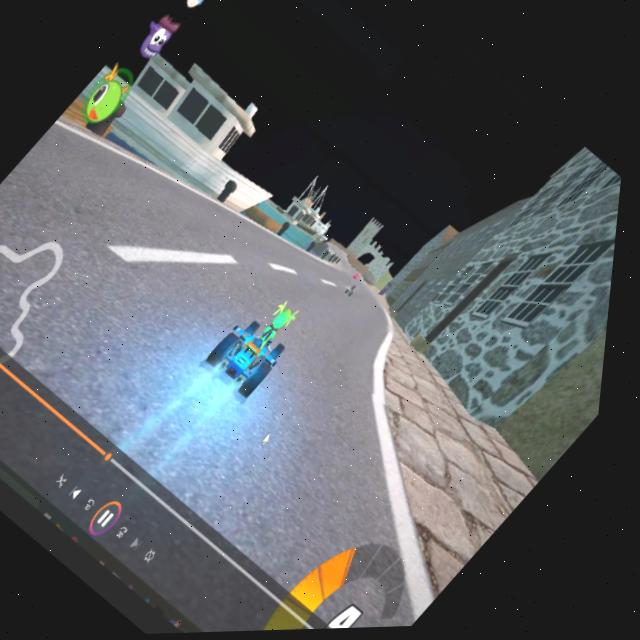enemy_kart: (346, 283, 368, 305)
player_kart: (207, 285, 325, 404)
track: (17, 168, 274, 421), (253, 241, 408, 373)
